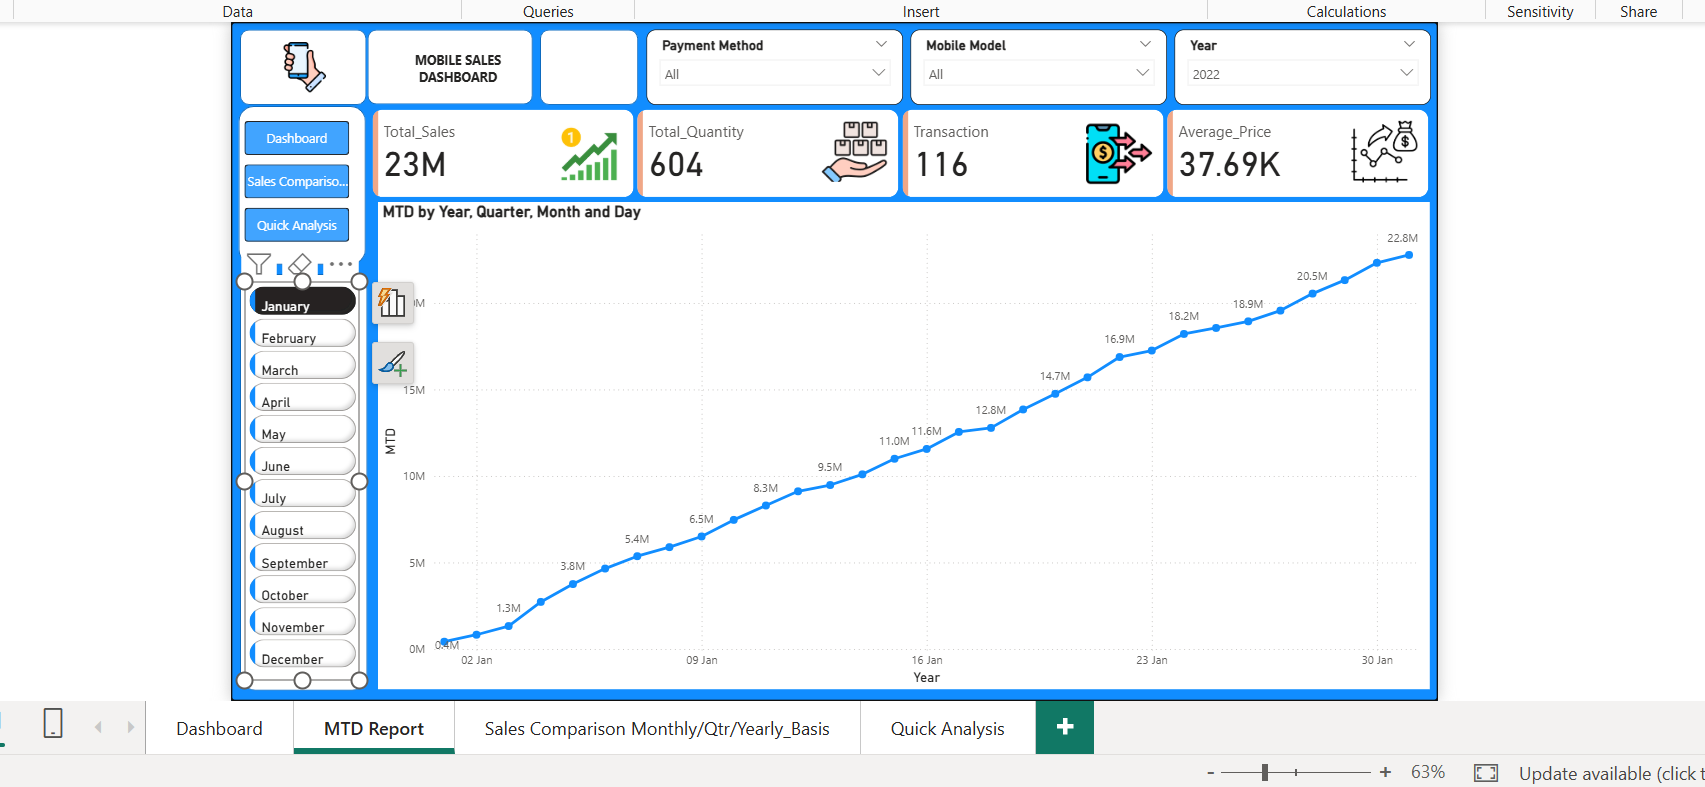

This screenshot's page, from the dashboard's own definition file:
{"tool":"powerbi","page":{"name":"MTD Report","canvas":[1280,720],"ordinal":1},"visuals":[{"type":"shape","box":[9,8,134,80],"z":0},{"type":"image","box":[21.7,16.7,111.7,63.3],"z":1000},{"type":"shape","box":[8.3,88.3,135,168.3],"z":2000},{"type":"cardVisual","fields":{"Data":["Mobile_sales.Total_Sales","Mobile_sales.Total_Quantity","Mobile_sales.Transaction","Mobile_sales.Average_Price"]},"box":[144,88,1130,103],"z":3000},{"type":"slicer","fields":{"Values":["Mobile_sales.Mobile Model"]},"box":[720,8,272,80],"z":4000},{"type":"slicer","fields":{"Values":["Mobile_sales.Payment Method"]},"box":[440,8,272,80],"z":5000},{"type":"slicer","fields":{"Values":["Date.Date.Variation.Date Hierarchy.Year"]},"box":[1000,8,272,80],"z":6000},{"type":"shape","box":[328,8,104,80],"z":7000},{"type":"shape","box":[145.2,8.6,175.3,79.6],"z":8000},{"type":"textbox","box":[176.3,24.7,128,47.3],"z":9000},{"type":"lineChart","fields":{"Y":["Mobile_sales.MTD"],"Category":["Date.Date.Variation.Date Hierarchy.Year","Date.Date.Variation.Date Hierarchy.Quarter","Date.Date.Variation.Date Hierarchy.Month","Date.Date.Variation.Date Hierarchy.Day"]},"box":[156.7,191.7,1115,516.7],"z":10000},{"type":"shape","box":[9.9,267,135.2,441.8],"z":11000},{"type":"advancedSlicerVisual","fields":{"Values":["Date.Date.Variation.Date Hierarchy.Month"]},"box":[14.3,275.8,123.1,423.1],"z":12000},{"type":"pageNavigator","box":[15,105,111.7,130],"z":13000}]}

Visuals, with their boxes on the page's 1280x720 design canvas (x1, y1, x2, y2). These are canvas units, not pixel positions in the 1705x787 screenshot, which may show the page scaled, cropped or inside an application window:
shape: crop(9, 8, 143, 88)
image: crop(22, 17, 133, 80)
shape: crop(8, 88, 143, 257)
cardVisual - Mobile_sales.Total_Sales x Mobile_sales.Total_Quantity: crop(144, 88, 1274, 191)
slicer - Mobile_sales.Mobile Model: crop(720, 8, 992, 88)
slicer - Mobile_sales.Payment Method: crop(440, 8, 712, 88)
slicer - Date.Date.Variation.Date Hierarchy.Year: crop(1000, 8, 1272, 88)
shape: crop(328, 8, 432, 88)
shape: crop(145, 9, 320, 88)
textbox: crop(176, 25, 304, 72)
lineChart - Mobile_sales.MTD x Date.Date.Variation.Date Hierarchy.Year: crop(157, 192, 1272, 708)
shape: crop(10, 267, 145, 709)
advancedSlicerVisual - Date.Date.Variation.Date Hierarchy.Month: crop(14, 276, 137, 699)
pageNavigator: crop(15, 105, 127, 235)
